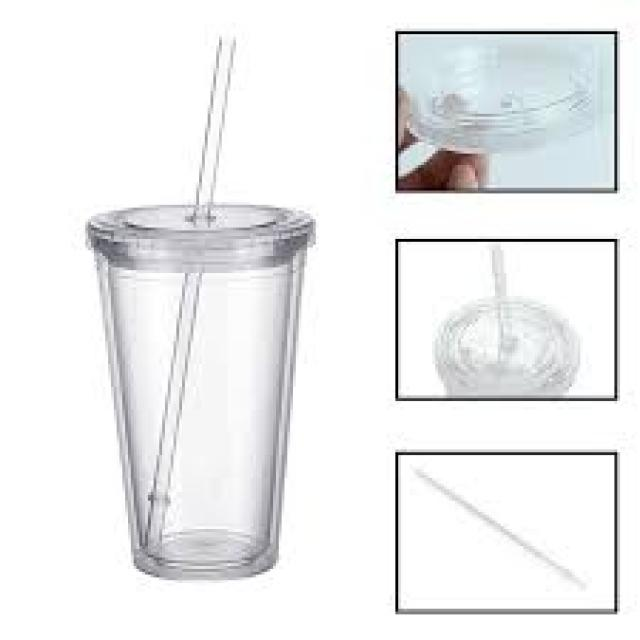cup: (90, 192, 328, 598)
